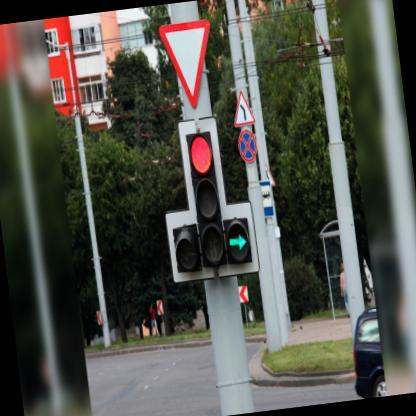obstructed_road_sign: (259, 181, 274, 217)
road_sign: (158, 21, 209, 109), (234, 91, 256, 126), (239, 131, 256, 162)
traffic light: (172, 133, 251, 272)
